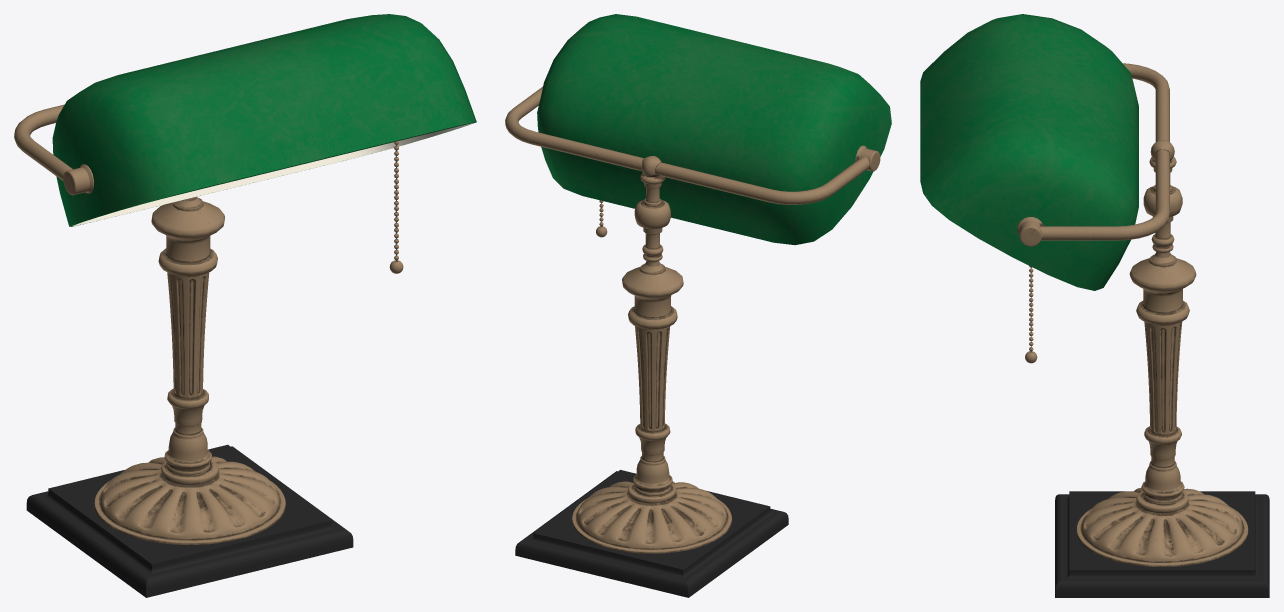
Rendered from Banker_Lamp.obj.
3 renders of one model, left to right at view 1: azimuth 30°, elevation 25°; view 2: azimuth 150°, elevation 25°; view 3: azimuth 270°, elevation 25°, orthographic. The views are drawn at different scales.
Parts seen in each view (by area): view 1: Lamp_Cover, Lamp; view 2: Lamp_Cover, Lamp; view 3: Lamp_Cover, Lamp.
Boxes of the visible parts, box(x1,y1,x2,y2) form: Lamp_Cover: box(52, 14, 476, 226); Lamp: box(14, 104, 403, 597); Lamp_Cover: box(537, 14, 891, 245); Lamp: box(505, 86, 880, 597); Lamp_Cover: box(920, 14, 1138, 290); Lamp: box(1017, 63, 1269, 597).
Bounding box in the file's own units: 28.15 × 36.94 × 24.41.
6 materials, 6 textured.
